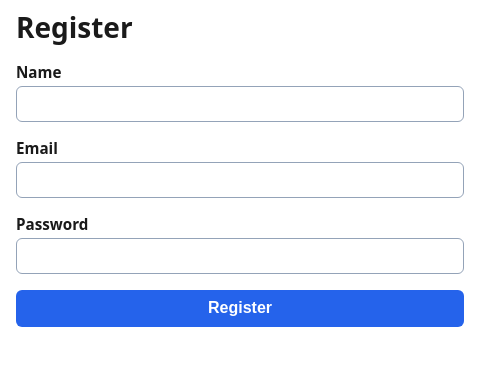
Test: RegisterPage › blocks submission when the name is shorter than 2 characters
This screenshot has width=481, height=367.
Type "J" into the field labelled "Name".
click(240, 104); type("J")  # box [16,86,464,122]
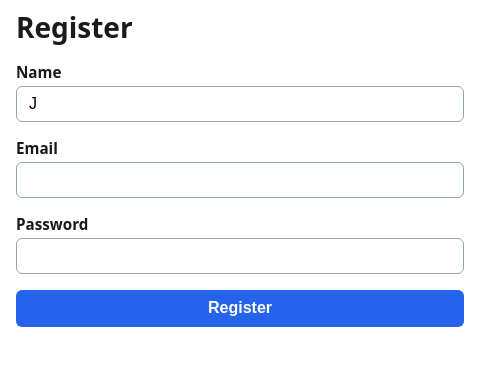
Type "john@example.com" into the field labelled "Email".
click(240, 180); type("john@example.com")  # box [16,162,464,198]
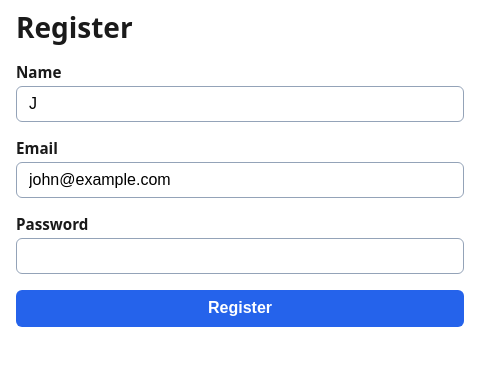
Type "securePass1" into the password field labelled "Password".
click(240, 256); type("securePass1")  # box [16,238,464,274]
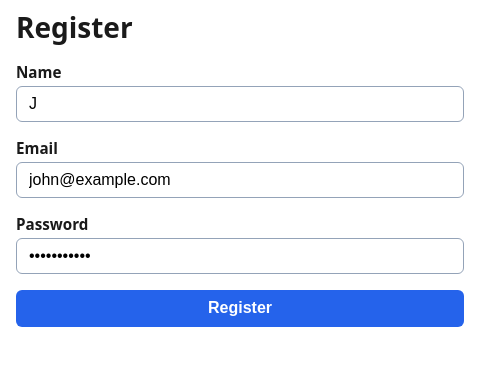
Click the button "Register".
click(240, 308)  # box [16,290,464,327]
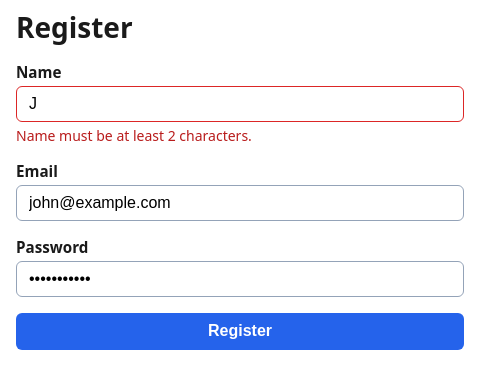
Check: the text "Name must be at least 2 characters." is shown, box [16,126,252,145]
